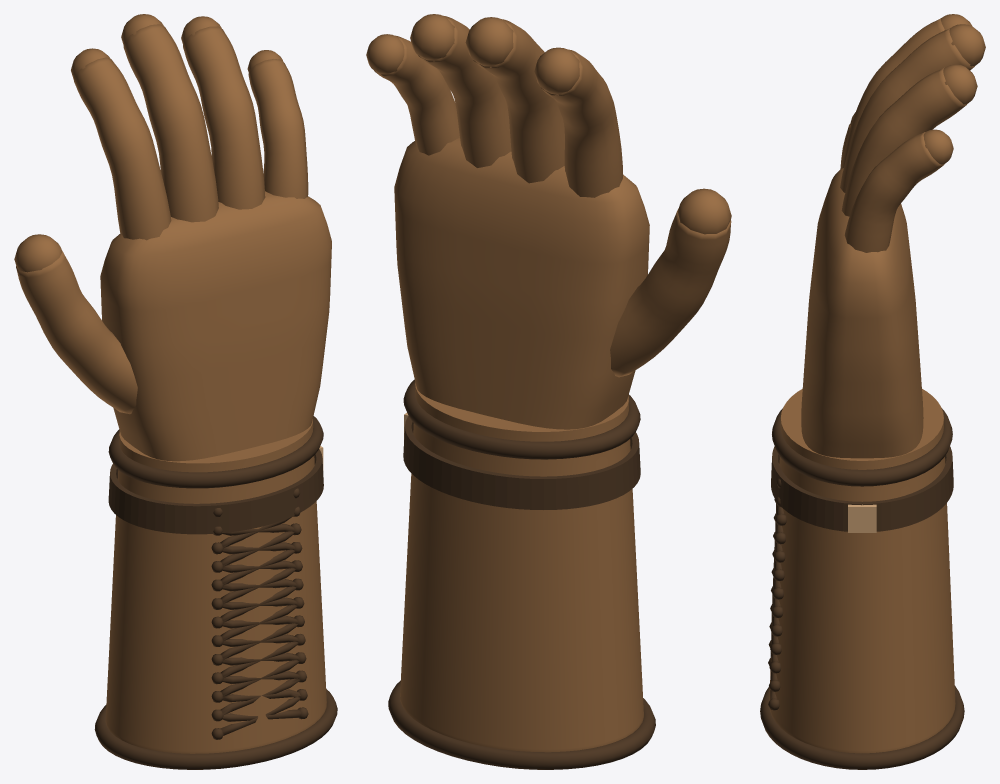
The model's file is gloves_crit_common.glb.
3 renders of one model, left to right at view 1: azimuth 30°, elevation 25°; view 2: azimuth 150°, elevation 25°; view 3: azimuth 270°, elevation 25°, orthographic. The views are drawn at different scales.
Visible parts, largest first — view 1: gloves_crit_common; view 2: gloves_crit_common; view 3: gloves_crit_common.
Boxes of the visible parts, <box> form: gloves_crit_common: <box>14,14,337,769</box>; gloves_crit_common: <box>366,14,731,769</box>; gloves_crit_common: <box>760,14,985,769</box>.
Size of the model in its own units: 1.38 by 2.95 by 0.886.
